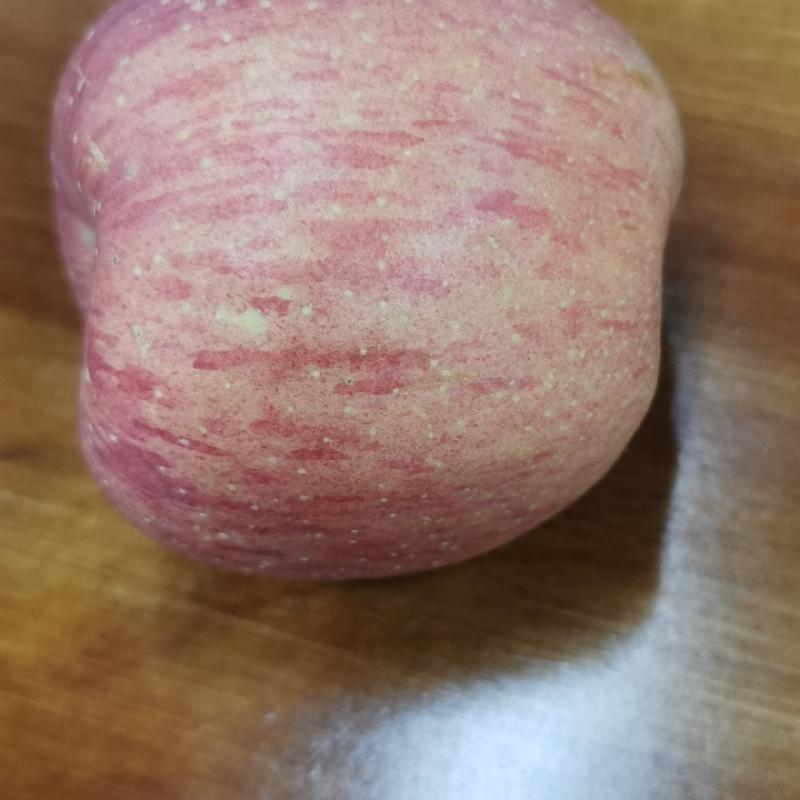apples: (45, 1, 690, 584)
